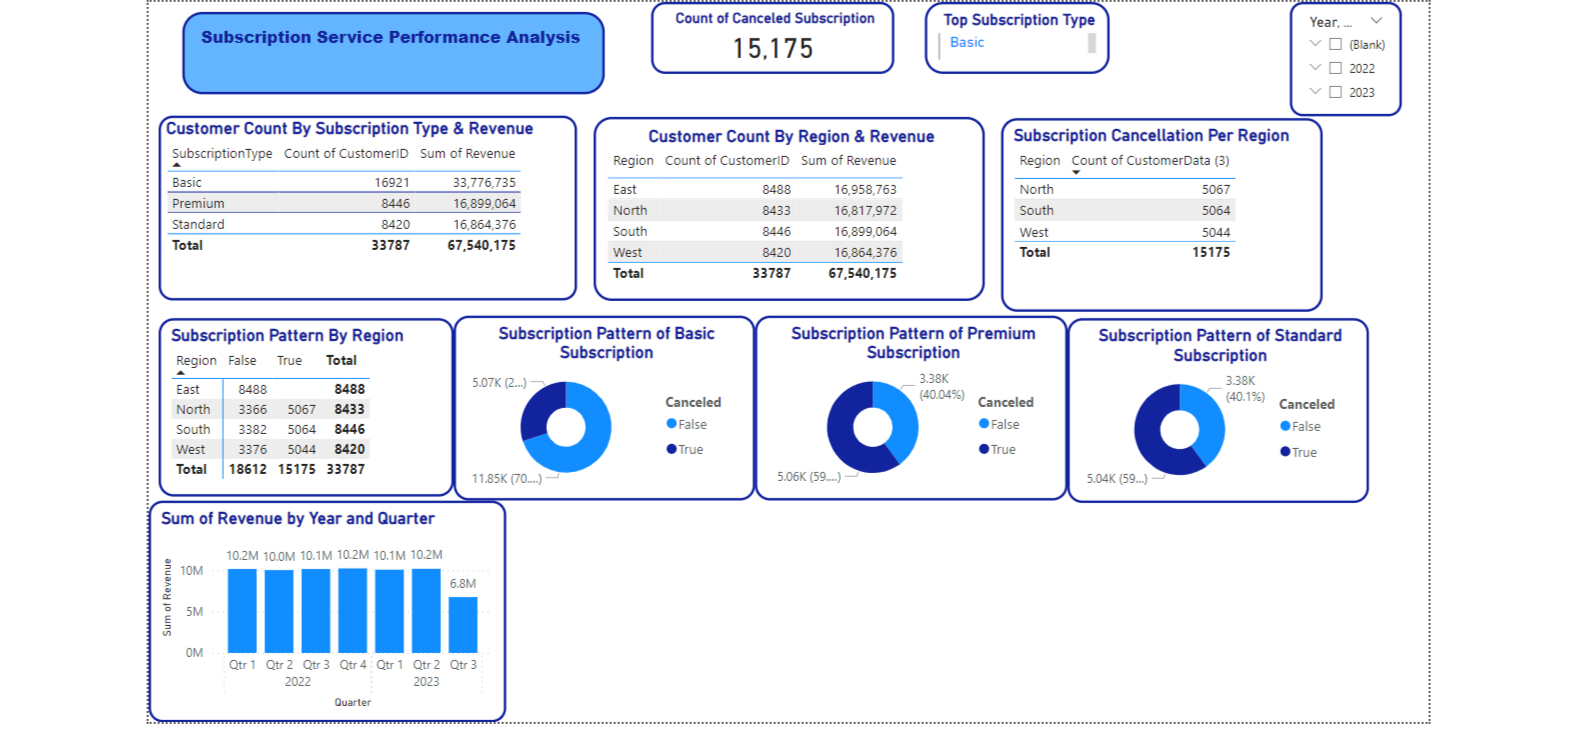

The page's visual inventory and layout, read from the dashboard file:
{"tool":"powerbi","page":{"name":"Page 2","canvas":[1280,720],"ordinal":1},"visuals":[{"type":"textbox","box":[33.8,9.7,422.3,62.7],"z":0},{"type":"tableEx","title":"Customer Count By Subscription Type & Revenue","fields":{"Values":["CustomerData (3).SubscriptionType","CountNonNull(CustomerData (3).CustomerID)","Sum(CustomerData (3). Revenue )"]},"box":[9.7,85.7,418.6,185.8],"z":1000},{"type":"slicer","fields":{"Values":["CustomerData (3).SubscriptionStart.Variation.Date Hierarchy.Year","CustomerData (3).SubscriptionEnd.Variation.Date Hierarchy.Year"]},"box":[1029.1,3.6,112.2,96.5],"z":2000},{"type":"donutChart","title":"Subscription Pattern of Basic Subscription","fields":{"Category":["CustomerData (3).SubscriptionType","CustomerData (3).Canceled"],"Y":["CountNonNull(CustomerData (3).Canceled)"]},"box":[27.7,522.4,354.7,184.6],"z":3000},{"type":"card","title":"Count of Canceled Subscription","fields":{"Values":["Count(CustomerData (3))"]},"box":[502.2,0,243.3,72.2],"z":4000},{"type":"tableEx","title":"Subscription Cancellation Per Region","fields":{"Values":["CustomerData (3).Region","Count(CustomerData (3))"]},"box":[428.3,287.1,320.9,194.2],"z":5000},{"type":"columnChart","fields":{"Y":["Sum(CustomerData (3). Revenue )"],"Category":["CustomerData (3).SubscriptionStart.Variation.Date Hierarchy.Year","CustomerData (3).SubscriptionStart.Variation.Date Hierarchy.Quarter"]},"box":[791.4,278.7,423.5,231.6],"z":6000},{"type":"tableEx","title":"Customer Count By Region & Revenue","fields":{"Values":["CustomerData (3).Region","CountNonNull(CustomerData (3).CustomerID)","Sum(CustomerData (3). Revenue )"]},"box":[16.9,290.8,390.9,184.6],"z":7000},{"type":"multiRowCard","title":"Top Subscription Type ","fields":{"Values":["Sum(CustomerData (3). Revenue )","CustomerData (3).SubscriptionType"]},"box":[776.7,0,184.4,72.2],"z":8000},{"type":"pivotTable","title":"Subscription Pattern By Region","fields":{"Columns":["CustomerData (3).Canceled"],"Values":["CountNonNull(CustomerData (3).Canceled)"],"Rows":["CustomerData (3).Region"]},"box":[1018.2,100.1,261.8,178.6],"z":9000},{"type":"donutChart","title":"Subscription Pattern of Premium Subscription","fields":{"Category":["CustomerData (3).SubscriptionType","CustomerData (3).Canceled"],"Y":["CountNonNull(CustomerData (3).Canceled)"]},"box":[407.8,522.4,360.7,184.6],"z":10000},{"type":"donutChart","title":"Subscription Pattern of Standard Subscription","fields":{"Category":["CustomerData (3).SubscriptionType","CustomerData (3).Canceled"],"Y":["CountNonNull(CustomerData (3).Canceled)"]},"box":[791.4,522.4,381.2,184.6],"z":11000},{"type":"pivotTable","title":"Subscription Type By Region & Revenue","fields":{"Values":["Sum(CustomerData (3). Revenue )"],"Rows":["CustomerData (3).SubscriptionType"],"Columns":["CustomerData (3).Region"]},"box":[441.6,88.1,568.2,183.4],"z":12000}]}

Visuals, with their boxes on the page's 1280x720 design canvas (x1, y1, x2, y2). These are canvas units, not pixel positions in the 1582x731 screenshot, which may show the page scaled, cropped or inside an application window:
textbox: left=34, top=10, right=456, bottom=72
"Customer Count By Subscription Type & Revenue" tableEx: left=10, top=86, right=428, bottom=272
slicer - CustomerData (3).SubscriptionStart.Variation.Date Hierarchy.Year x CustomerData (3).SubscriptionEnd.Variation.Date Hierarchy.Year: left=1029, top=4, right=1141, bottom=100
"Subscription Pattern of Basic Subscription" donutChart: left=28, top=522, right=382, bottom=707
"Count of Canceled Subscription" card: left=502, top=0, right=746, bottom=72
"Subscription Cancellation Per Region" tableEx: left=428, top=287, right=749, bottom=481
columnChart - Sum(CustomerData (3). Revenue ) x CustomerData (3).SubscriptionStart.Variation.Date Hierarchy.Year: left=791, top=279, right=1215, bottom=510
"Customer Count By Region & Revenue" tableEx: left=17, top=291, right=408, bottom=475
"Top Subscription Type " multiRowCard: left=777, top=0, right=961, bottom=72
"Subscription Pattern By Region" pivotTable: left=1018, top=100, right=1280, bottom=279
"Subscription Pattern of Premium Subscription" donutChart: left=408, top=522, right=768, bottom=707
"Subscription Pattern of Standard Subscription" donutChart: left=791, top=522, right=1173, bottom=707
"Subscription Type By Region & Revenue" pivotTable: left=442, top=88, right=1010, bottom=272
